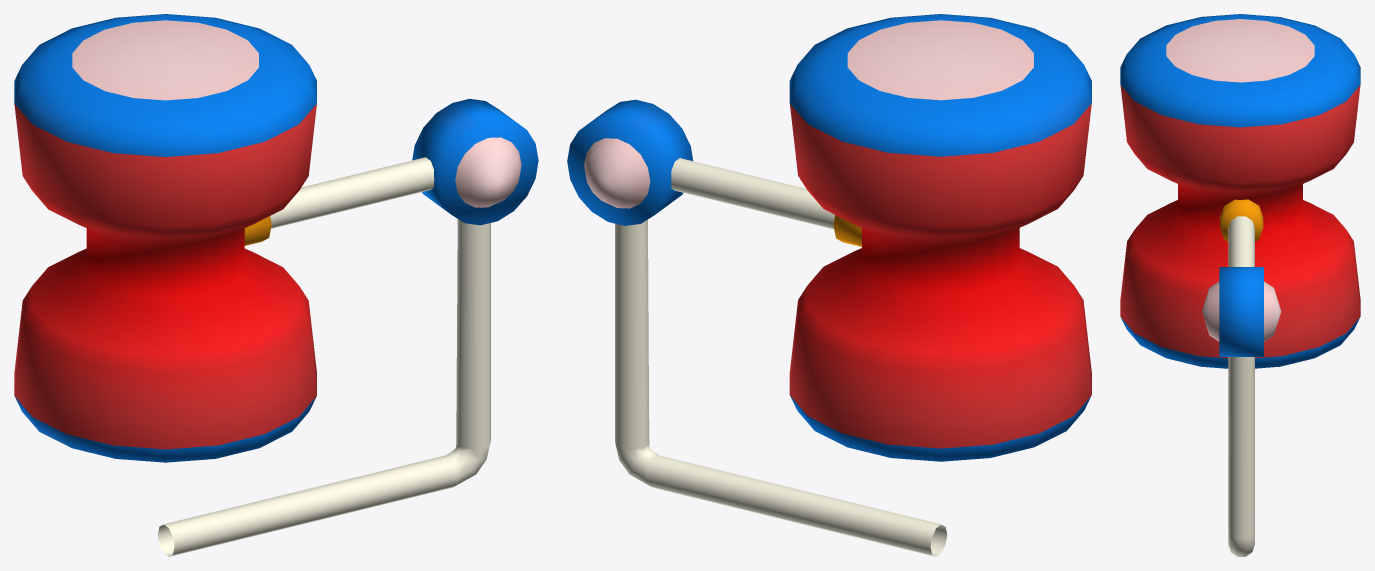
Rendered from obstacle_1.fbx.
3 renders of one model, left to right at view 1: azimuth 30°, elevation 25°; view 2: azimuth 150°, elevation 25°; view 3: azimuth 270°, elevation 25°, orthographic. The views are drawn at different scales.
Visible parts, largest first — view 1: obstacle_1_b, obstacle_1_a; view 2: obstacle_1_b, obstacle_1_a; view 3: obstacle_1_b, obstacle_1_a.
Boxes of the visible parts, x1,y1,x2,y2 form: obstacle_1_b: [14, 14, 538, 462]; obstacle_1_a: [157, 219, 490, 556]; obstacle_1_b: [567, 14, 1091, 461]; obstacle_1_a: [615, 219, 947, 556]; obstacle_1_b: [1120, 14, 1360, 368]; obstacle_1_a: [1228, 357, 1254, 556].
Bounding box in the file's own units: 7.84 × 7.54 × 4.17.
